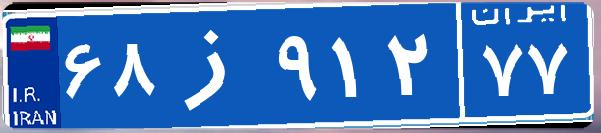1: (330, 28, 385, 110)
2: (385, 28, 445, 110)
6: (57, 26, 110, 107)
7: (475, 38, 525, 113), (525, 38, 570, 115)
8: (110, 28, 158, 105)
9: (273, 28, 330, 110)
ز: (158, 15, 273, 115)
